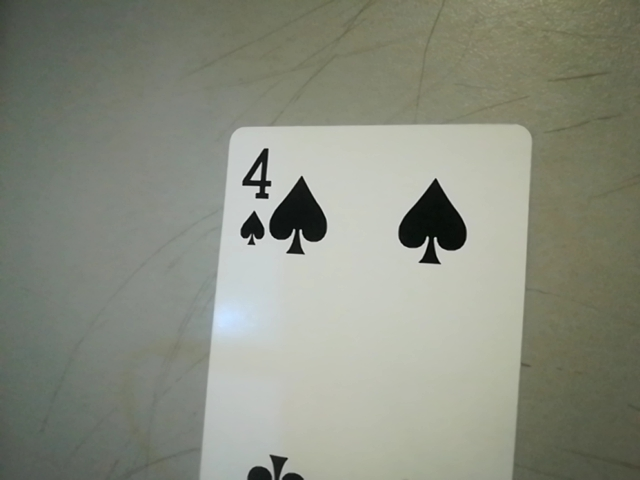ht 4: (226, 140, 280, 254)
